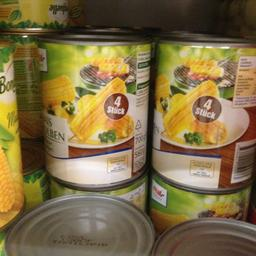corn: (36, 28, 150, 190), (150, 34, 255, 196)
